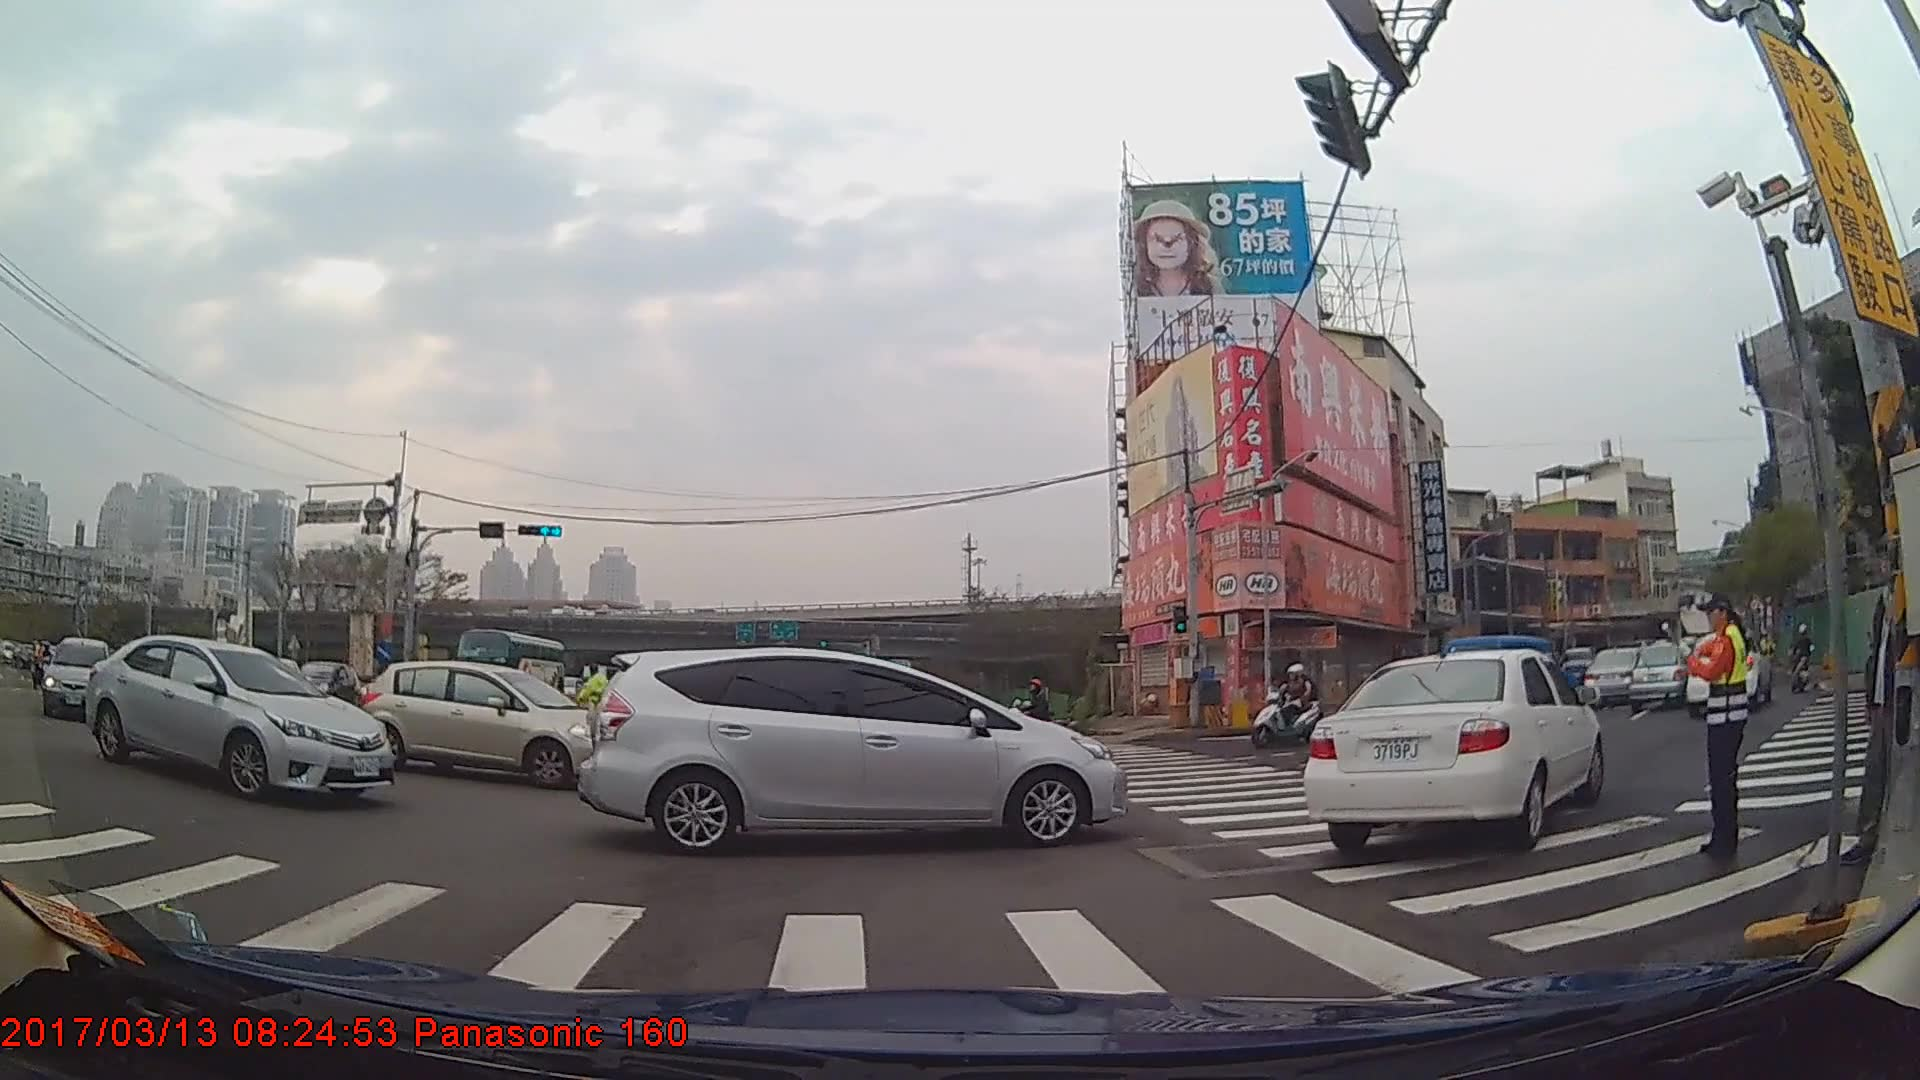pedestrian: (1857, 533, 1920, 865), (1683, 588, 1751, 866)
rider: (1253, 663, 1323, 748), (1791, 626, 1814, 696)
vehicle: (575, 645, 1125, 853), (1298, 646, 1605, 856), (79, 633, 397, 803), (353, 659, 614, 790), (450, 625, 561, 707), (37, 637, 114, 719), (1625, 642, 1694, 713), (1583, 647, 1651, 710)
